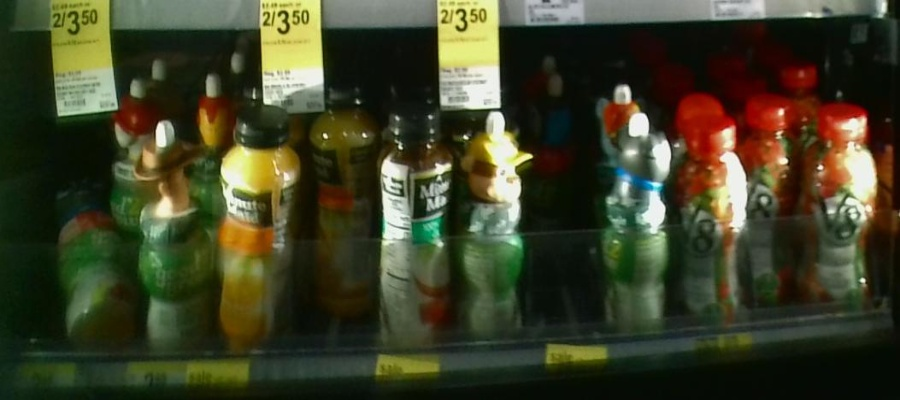bottle: (221, 107, 306, 351), (379, 99, 461, 351), (135, 116, 214, 350), (463, 103, 536, 348), (309, 74, 377, 321), (804, 103, 879, 316), (674, 118, 747, 324), (604, 115, 670, 338), (748, 94, 800, 313), (58, 210, 130, 350)
